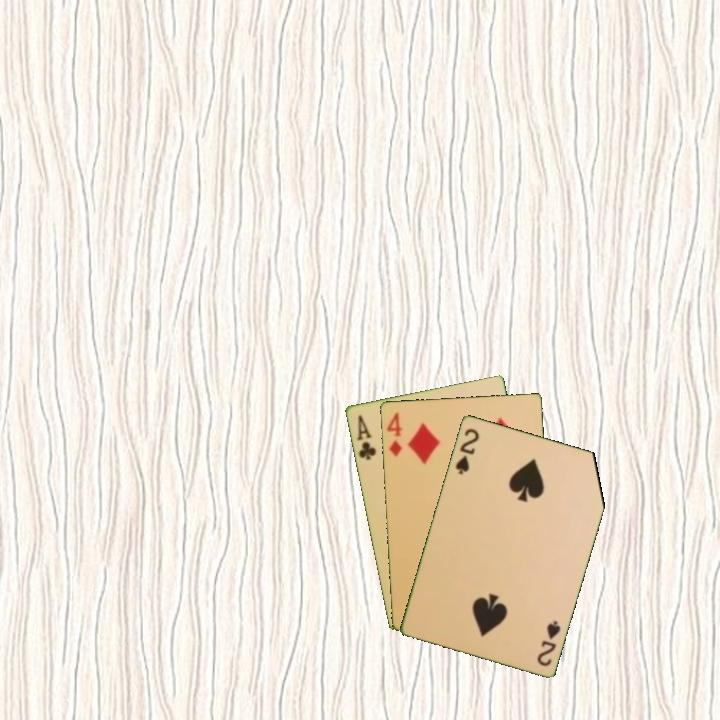2s: (452, 424, 482, 477), (533, 617, 563, 669)
4d: (383, 409, 405, 459)
Ac: (353, 411, 379, 463)
